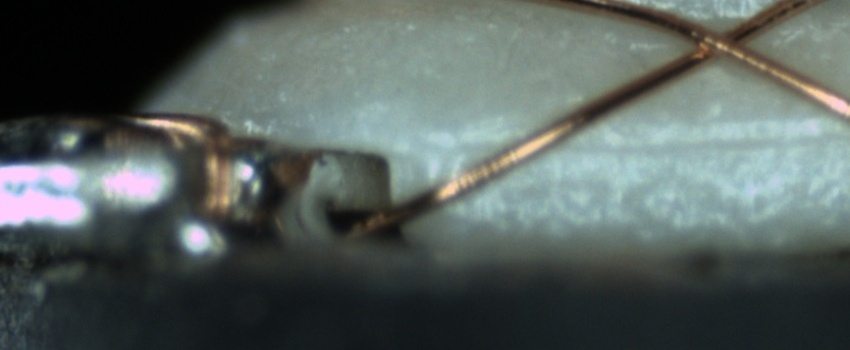CL: (676, 12, 773, 70)
DL: (420, 112, 849, 176)
TE: (125, 101, 237, 236)
